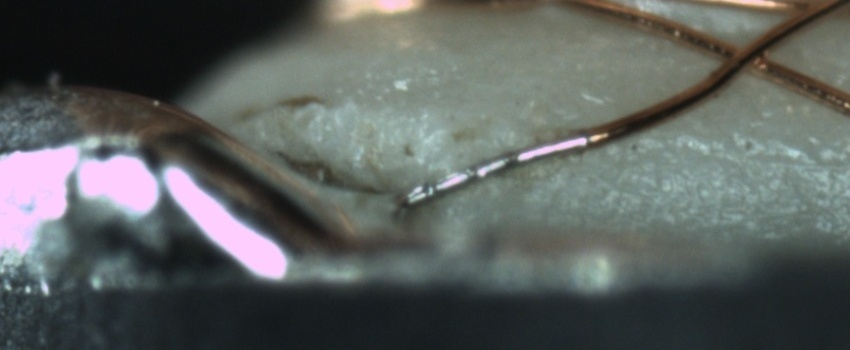CL: (707, 28, 789, 83)
DL: (588, 128, 849, 178)
TS: (402, 134, 593, 205)
